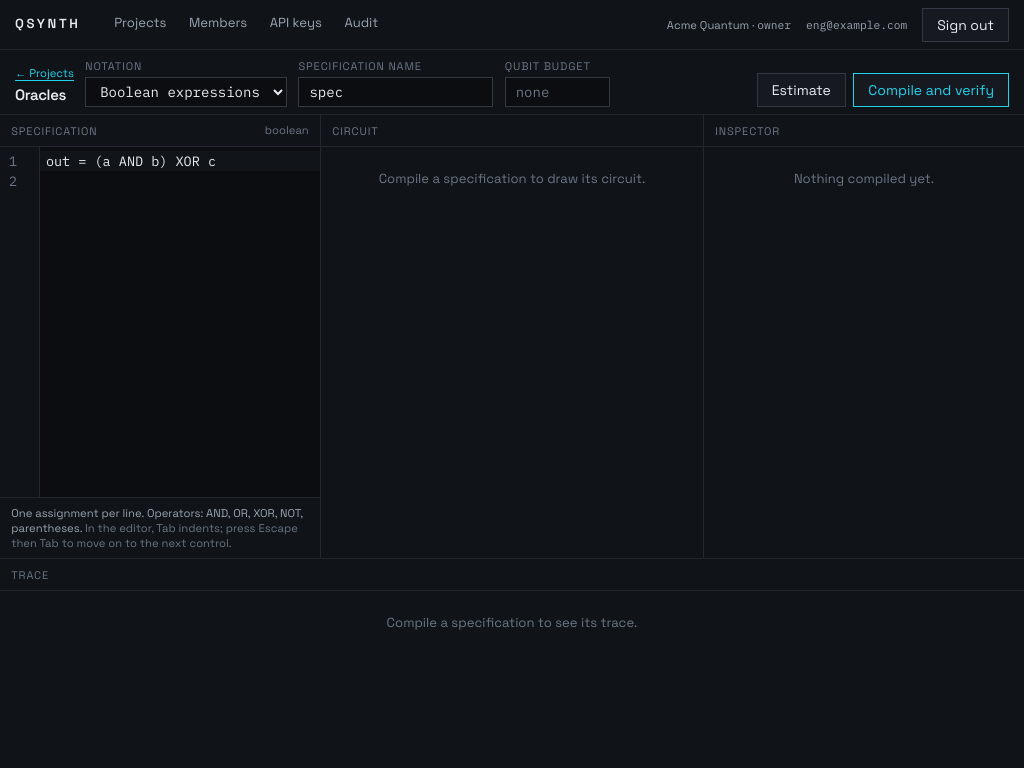
Test case: the workbench › explains the export gate rather than showing an empty diagram
This screenshot has width=1024, height=768.
Expected: the heading "Oracles" is shown, [15,84,74,107]
Click the button "Compile and verify".
click(931, 90)  # box [853,73,1009,107]
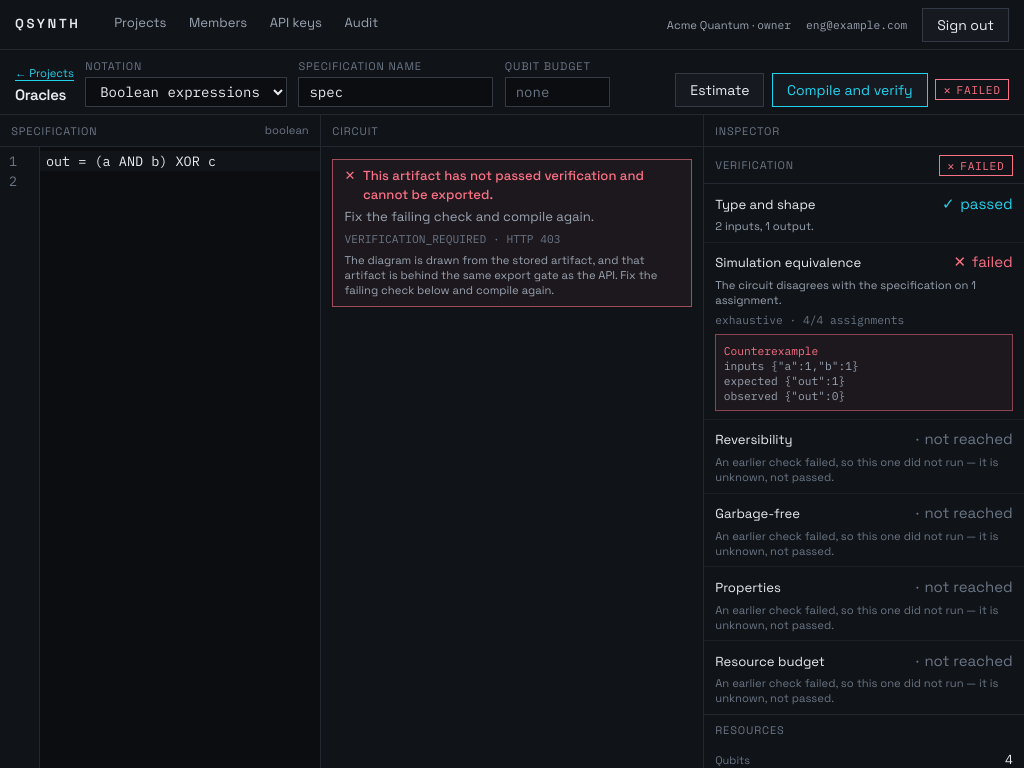
Result: the text "This artifact has not passed verification and cannot be exported." is shown at [363,167,680,204]
Result: the text "behind the same export gate as the API" is shown at [344,253,657,297]
